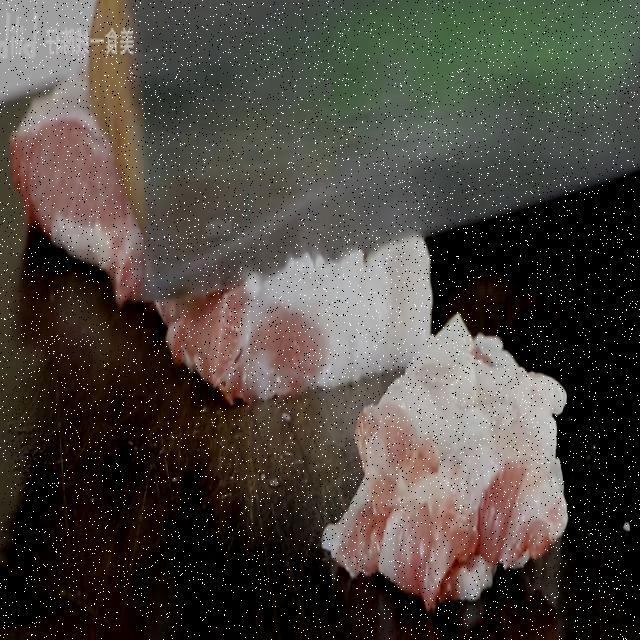pork: (342, 282, 592, 609), (171, 225, 443, 399), (20, 93, 112, 284)
